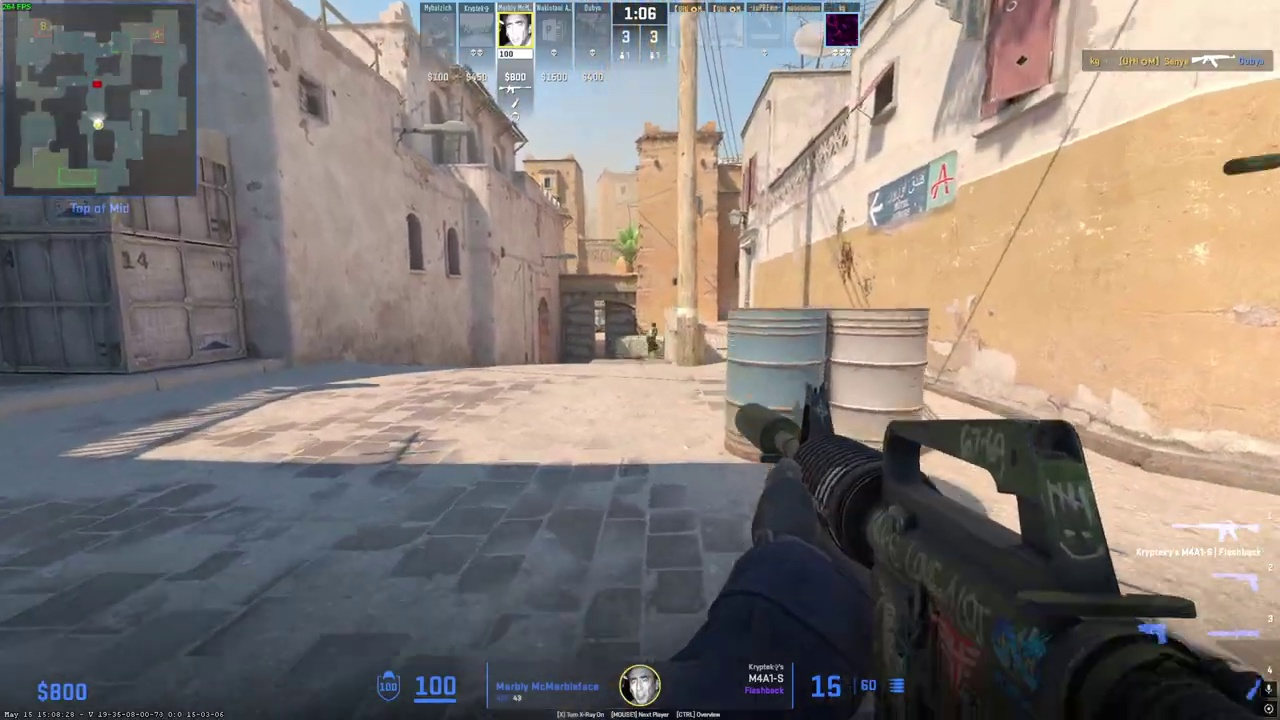Terrorist: (646, 322, 660, 355)
